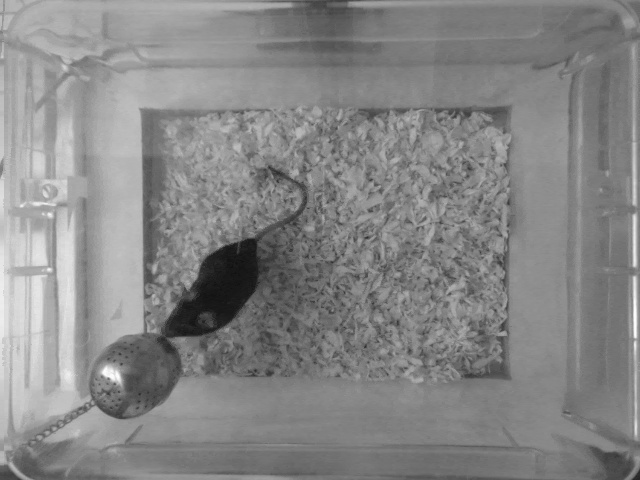mice: (159, 164, 314, 340)
